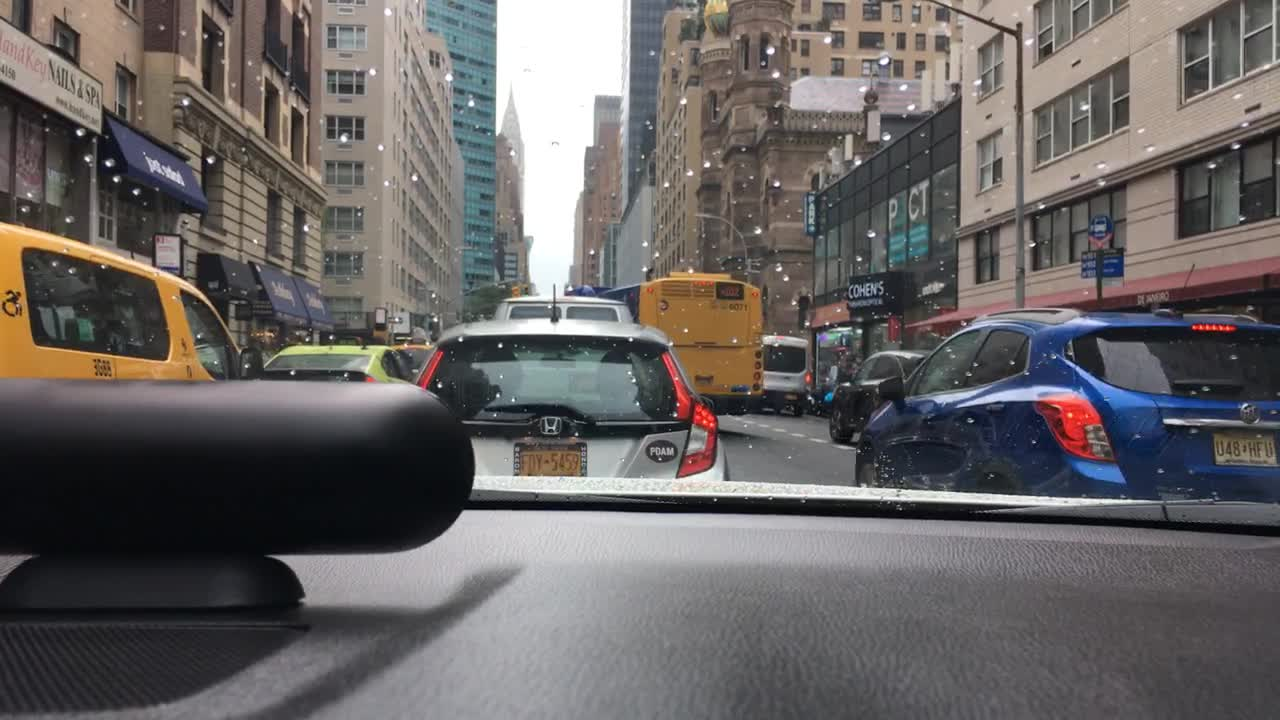bus: (571, 267, 768, 419)
car: (845, 304, 1278, 504), (419, 316, 732, 485), (0, 220, 268, 381), (826, 346, 935, 442), (258, 329, 414, 384), (492, 283, 637, 323), (762, 333, 818, 417), (393, 343, 438, 371)
traffic light: (511, 284, 520, 296)
traffic sign: (1076, 248, 1124, 278), (1083, 212, 1116, 247), (395, 333, 414, 341), (385, 316, 401, 323)
